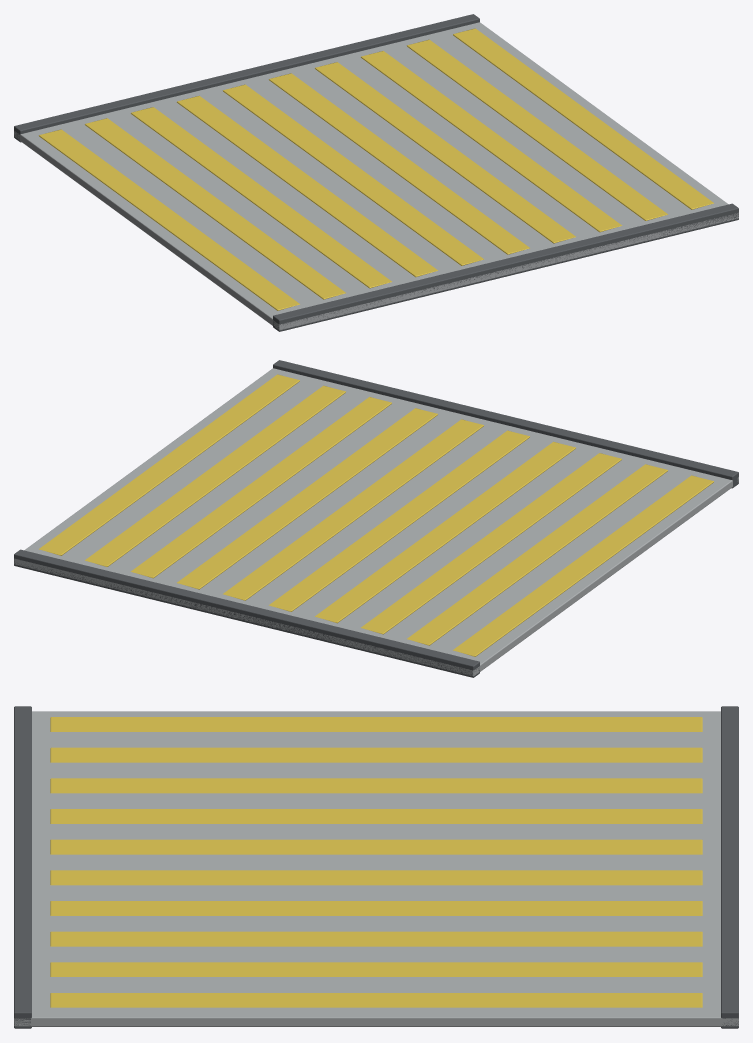
Rendered from floor_hazard_4.fbx.
3 views of the same model, one above another, from view 1: azimuth 30°, elevation 25°; view 2: azimuth 150°, elevation 25°; view 3: azimuth 270°, elevation 25° (orthographic). The views are drawn at different scales.
Parts seen in each view (by area): view 1: floor_hazard_4; view 2: floor_hazard_4; view 3: floor_hazard_4.
Boxes of the visible parts, x1,y1,x2,y2 form: floor_hazard_4: (14, 14, 738, 331); floor_hazard_4: (14, 360, 738, 677); floor_hazard_4: (14, 706, 738, 1028).
Size of the model in its own units: 4 by 0.1 by 4.
